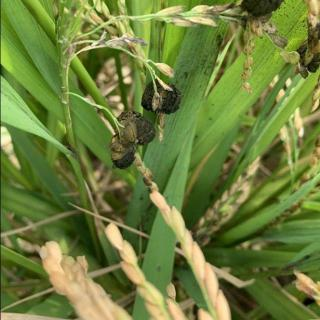Gosong-Palsu: (109, 110, 157, 168), (140, 76, 182, 115), (298, 24, 320, 74), (239, 1, 291, 22)
